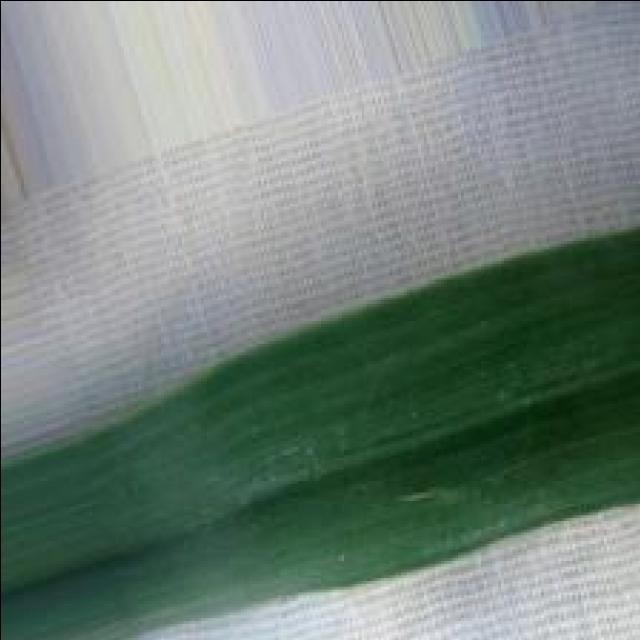Healthy: (0, 223, 640, 640)
